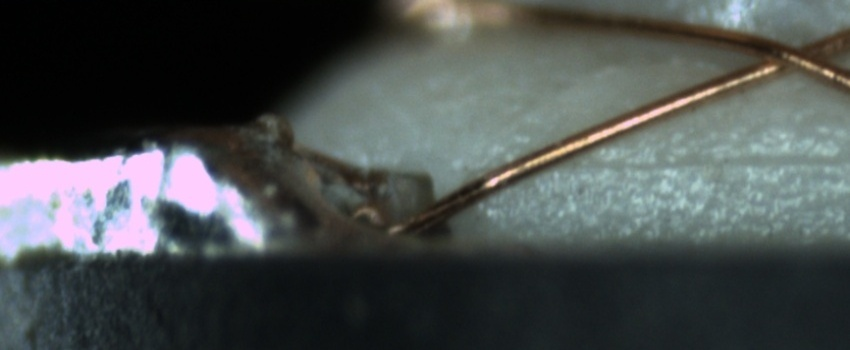CL: (743, 30, 840, 85)
DL: (565, 130, 849, 195)
